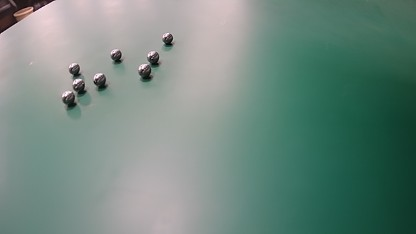ironball: (61, 90, 75, 104), (137, 63, 151, 77), (93, 72, 106, 86), (72, 78, 85, 92), (68, 62, 80, 75), (147, 51, 159, 64), (110, 48, 121, 61), (162, 32, 173, 44)
